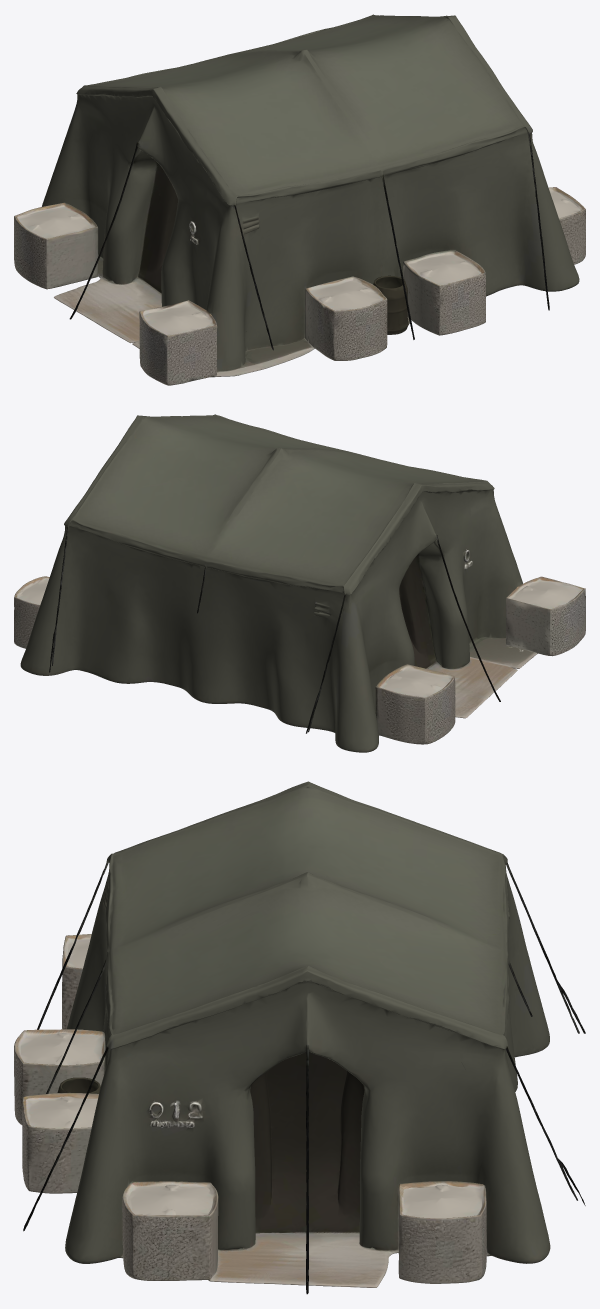
Rendered from militarytent.glb.
3 views of the same model, one above another, from view 1: azimuth 30°, elevation 25°; view 2: azimuth 150°, elevation 25°; view 3: azimuth 270°, elevation 25° (orthographic). The views are drawn at different scales.
Parts seen in each view (by area): view 1: tripo_node_7f0a3000-46a1-45ca-aae1-220a2963af1c; view 2: tripo_node_7f0a3000-46a1-45ca-aae1-220a2963af1c; view 3: tripo_node_7f0a3000-46a1-45ca-aae1-220a2963af1c.
Part boxes in pixels (left/top/right/bottom): tripo_node_7f0a3000-46a1-45ca-aae1-220a2963af1c: left=14, top=14, right=585, bottom=385; tripo_node_7f0a3000-46a1-45ca-aae1-220a2963af1c: left=14, top=414, right=585, bottom=752; tripo_node_7f0a3000-46a1-45ca-aae1-220a2963af1c: left=14, top=781, right=585, bottom=1294.
Bounding box in the file's own units: 1 × 0.4327 × 0.8177.
Materials: 1 (1 with a texture image).
